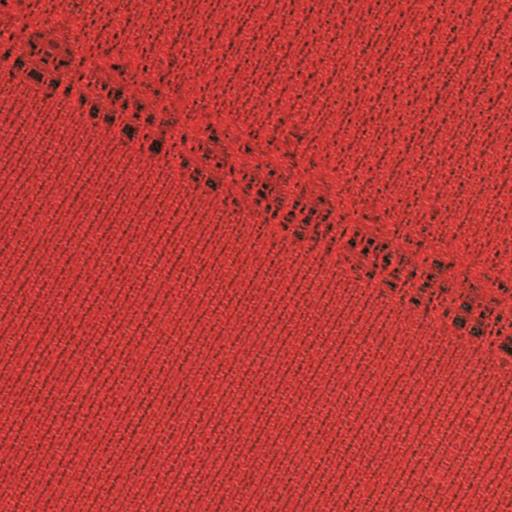slub: (0, 12, 512, 378)
